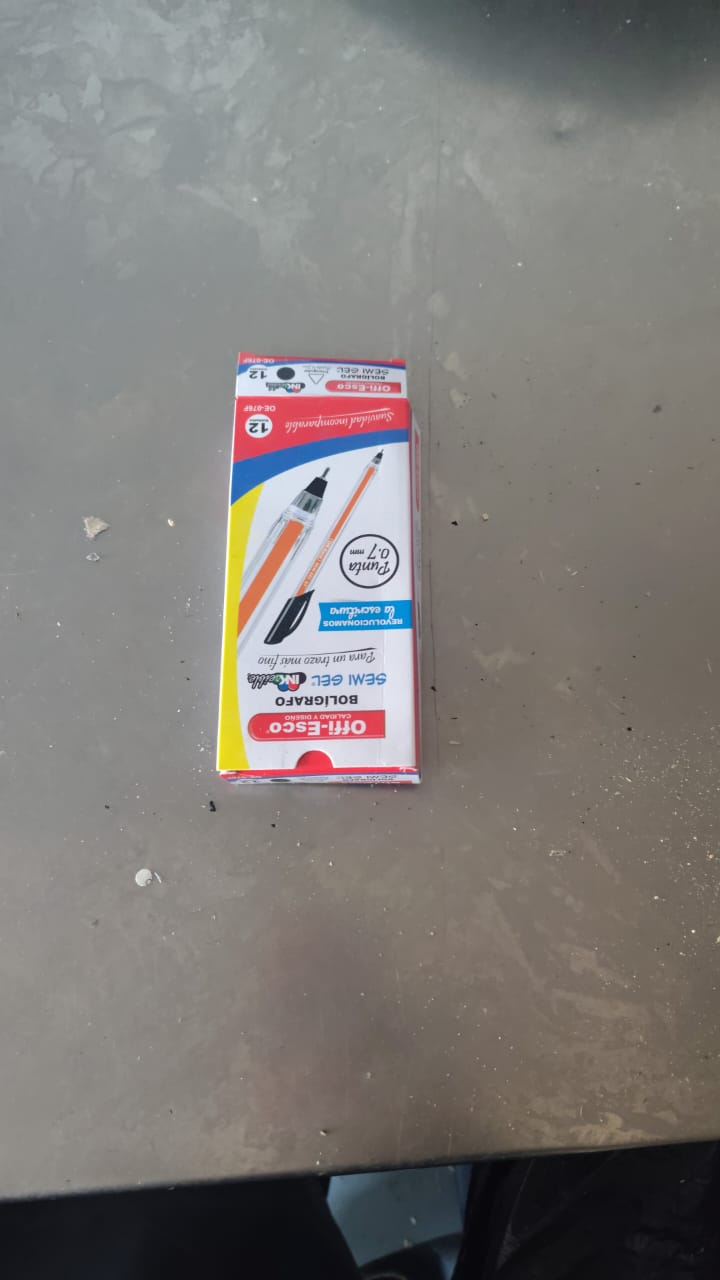Carton: (218, 352, 432, 789)
